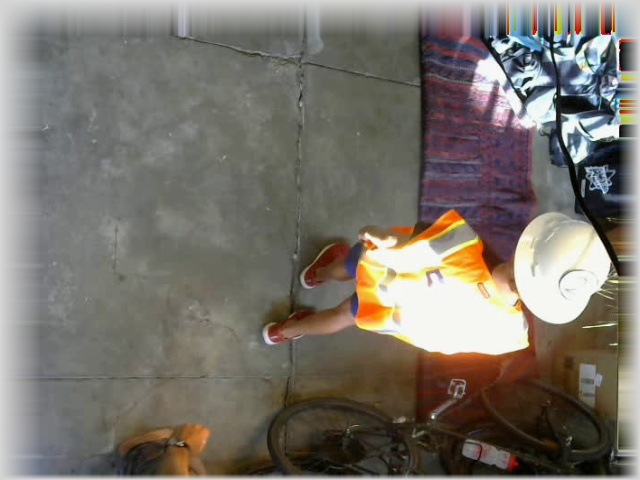two: (557, 268, 599, 301)
